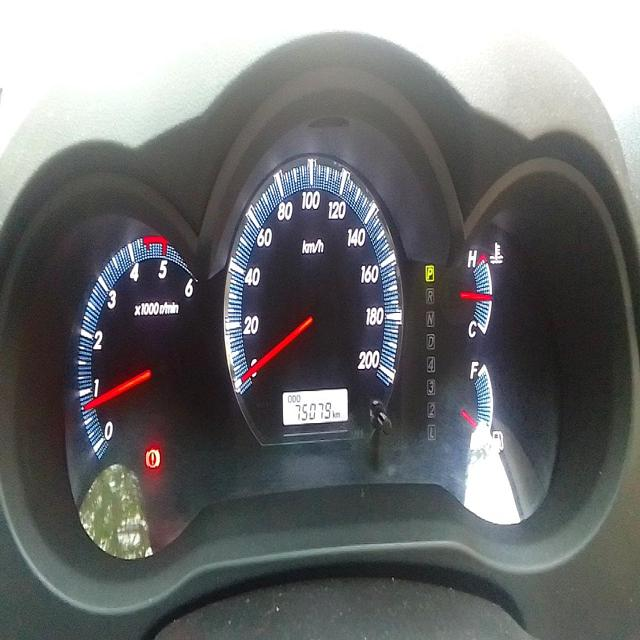odometer: (294, 400, 334, 424)
